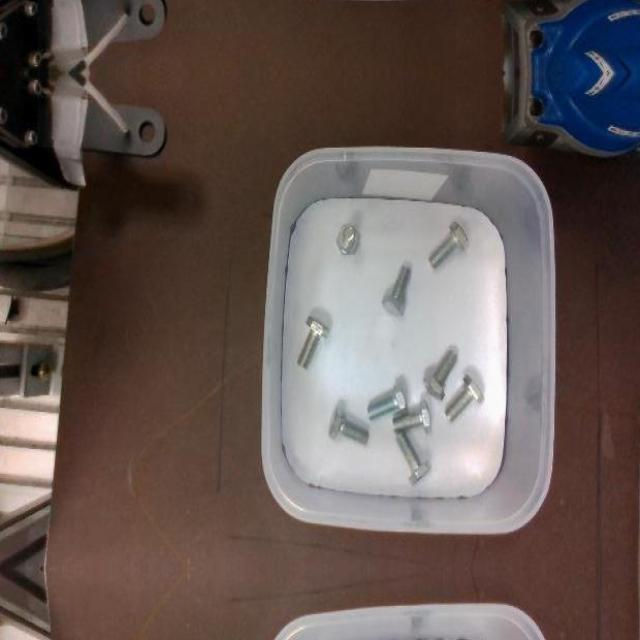screw: (428, 220, 469, 268), (444, 374, 484, 423), (396, 431, 432, 484), (422, 349, 457, 400), (298, 315, 330, 368), (328, 405, 369, 444), (366, 383, 408, 420), (381, 266, 411, 316), (392, 398, 432, 433), (336, 225, 359, 256)
